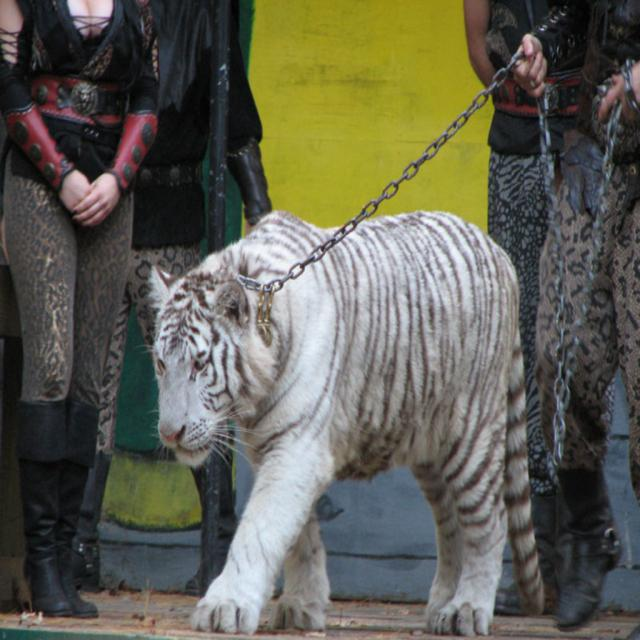Tiger: (134, 205, 547, 638)
